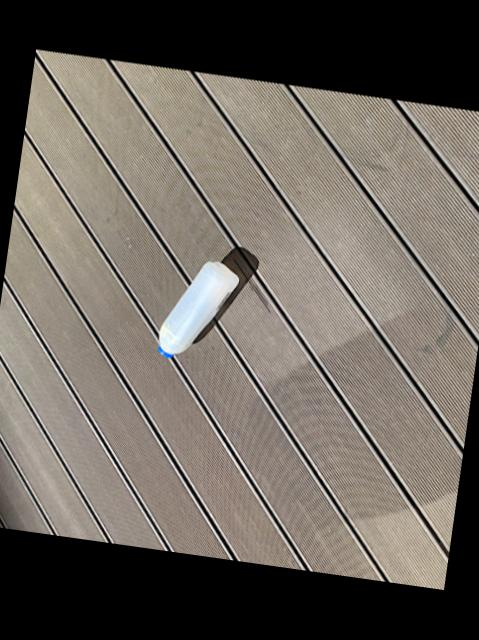plastic: (157, 261, 239, 357)
